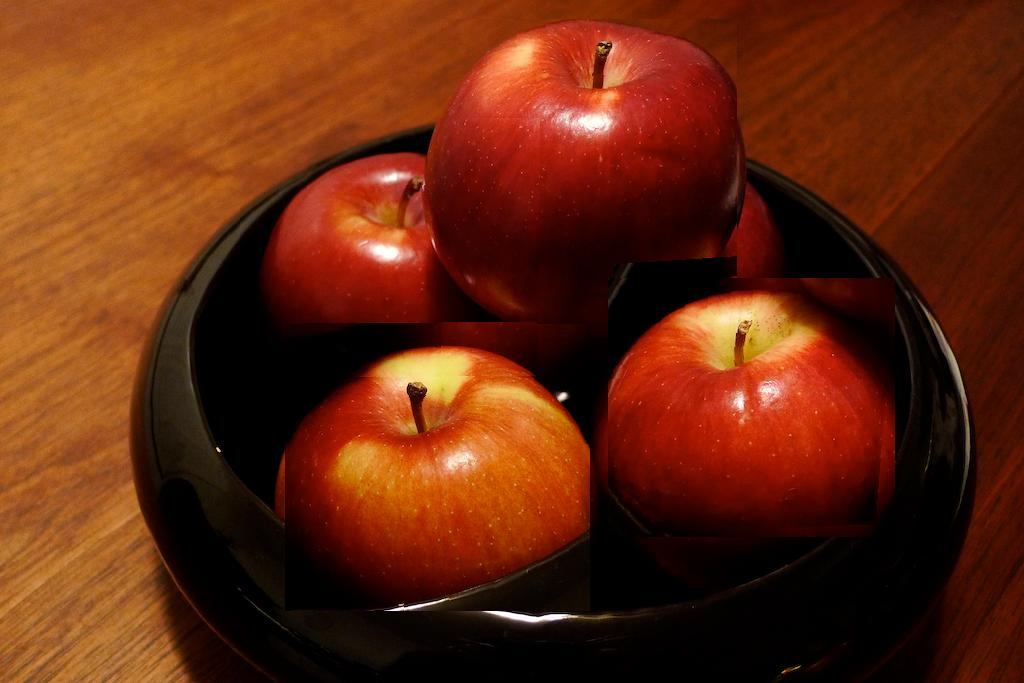Apple Fresh: (418, 20, 737, 307), (285, 325, 590, 612), (240, 118, 540, 378), (608, 278, 895, 537)
